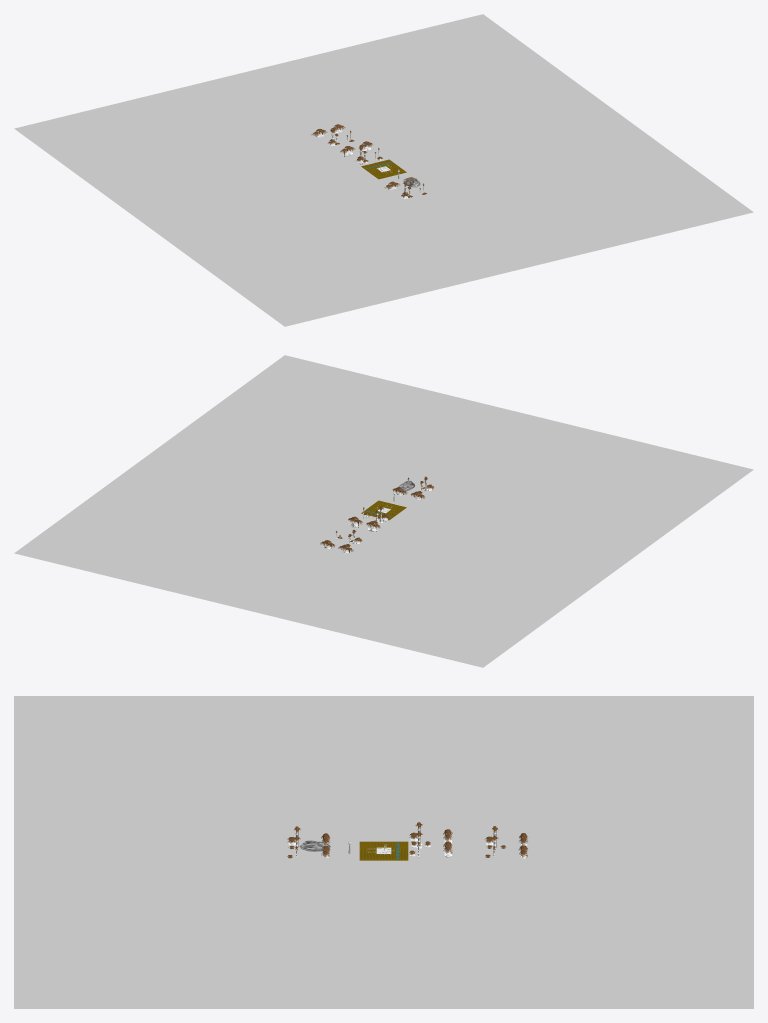
Rendered from Coordlux.gltf.
3 views of the same model, one above another, from view 1: azimuth 30°, elevation 25°; view 2: azimuth 150°, elevation 25°; view 3: azimuth 270°, elevation 25° (orthographic). The views are drawn at different scales.
Parts seen in each view (by area): view 1: MeshInstance3D25, MeshInstance3D36; view 2: MeshInstance3D25, MeshInstance3D36; view 3: MeshInstance3D25, MeshInstance3D36, OceanFloor.
Boxes of the visible parts, box(x1,y1,x2,y2) form: MeshInstance3D25: box(14, 14, 753, 326); MeshInstance3D36: box(310, 138, 457, 200); MeshInstance3D25: box(14, 355, 753, 667); MeshInstance3D36: box(310, 479, 457, 541); MeshInstance3D25: box(14, 696, 753, 1008); MeshInstance3D36: box(310, 820, 457, 882); OceanFloor: box(359, 841, 408, 860).
Size of what is drawn, in the model's own units: 256915 by 21418 by 256915.
120 materials, 39 textured.
